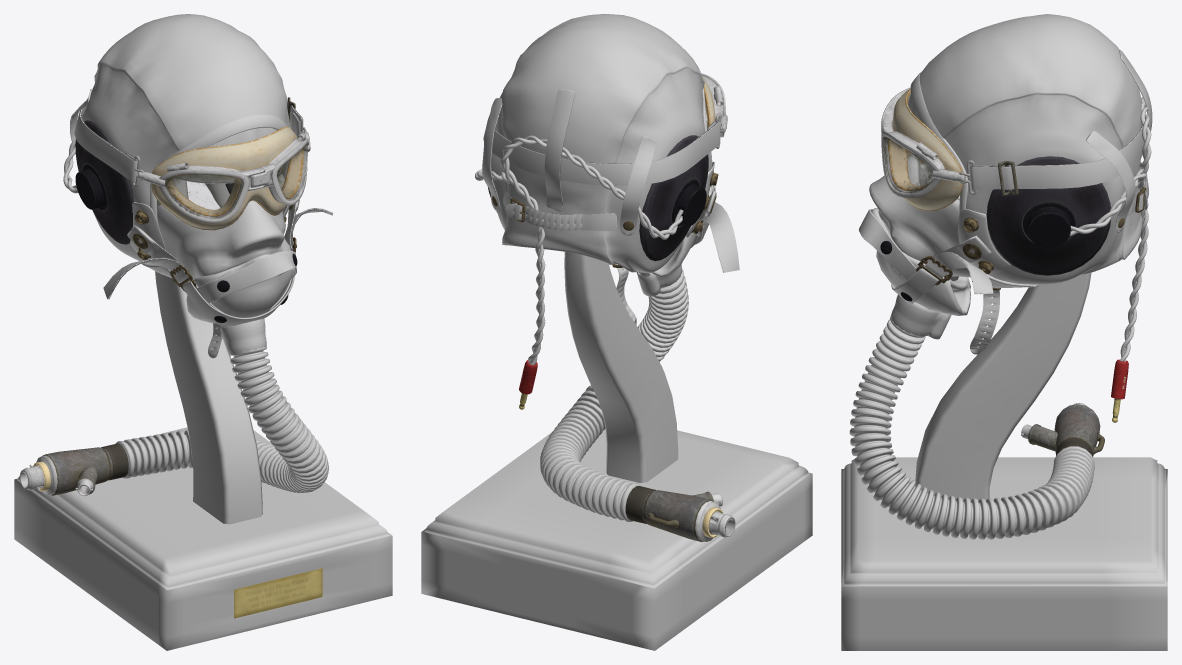
Rendered from FlightHelmet.gltf.
3 views of the same model, side by side, from view 1: azimuth 30°, elevation 25°; view 2: azimuth 150°, elevation 25°; view 3: azimuth 270°, elevation 25° (orthographic). The views are drawn at different scales.
Visible parts, largest first — view 1: RubberWood_low, LeatherParts_low, MetalParts_low, GlassPlastic_low, Hose_low, Lenses_low; view 2: RubberWood_low, LeatherParts_low, Hose_low, MetalParts_low, GlassPlastic_low; view 3: RubberWood_low, LeatherParts_low, Hose_low, GlassPlastic_low, MetalParts_low, Lenses_low.
Boxes of the visible parts, box(x1,y1,x2,y2) form: RubberWood_low: box(14, 100, 392, 650); LeatherParts_low: box(70, 14, 290, 358); MetalParts_low: box(20, 97, 322, 618); GlassPlastic_low: box(75, 120, 304, 244); Hose_low: box(115, 346, 328, 493); Lenses_low: box(165, 144, 307, 218); RubberWood_low: box(421, 114, 812, 650); LeatherParts_low: box(482, 14, 714, 325); Hose_low: box(540, 270, 688, 521); MetalParts_low: box(492, 73, 735, 541); GlassPlastic_low: box(487, 76, 715, 261); RubberWood_low: box(841, 97, 1167, 650); LeatherParts_low: box(908, 14, 1152, 354); Hose_low: box(849, 317, 1094, 539); GlassPlastic_low: box(887, 88, 1110, 275); MetalParts_low: box(880, 87, 1146, 457); Lenses_low: box(883, 136, 933, 193).
Bounding box in the file's own units: 0.3666 × 0.716 × 0.3716.
